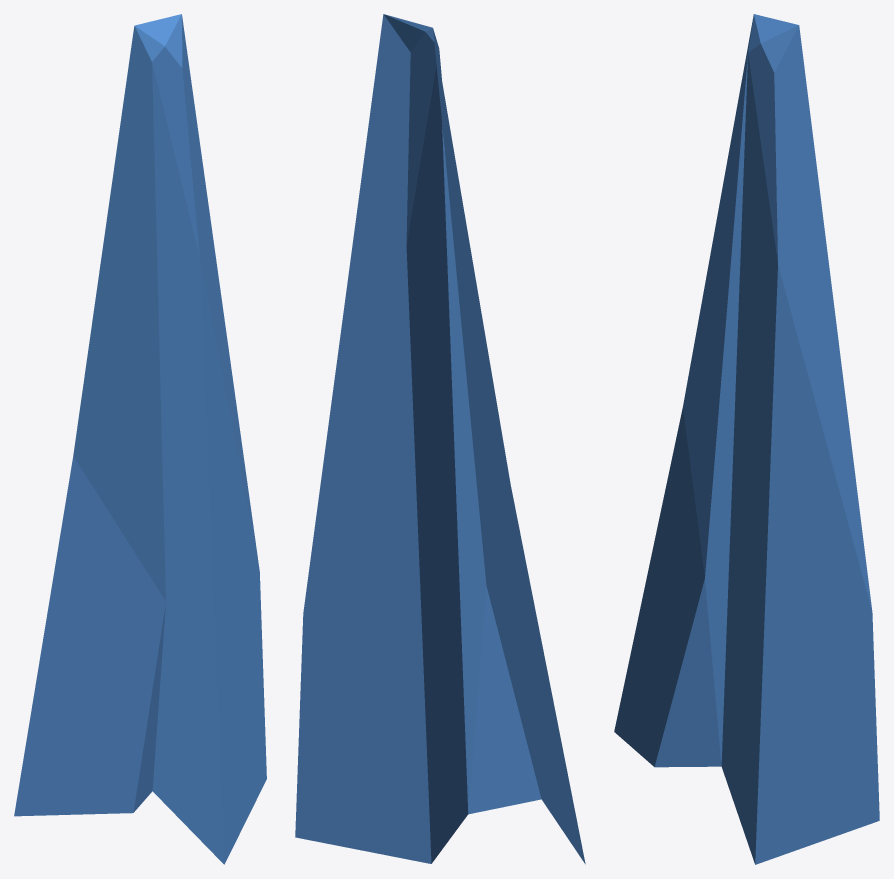
File: Towel_4.fbx
3 views of the same model, side by side, from view 1: azimuth 30°, elevation 25°; view 2: azimuth 150°, elevation 25°; view 3: azimuth 330°, elevation 25° (orthographic). The views are drawn at different scales.
Parts seen in each view (by area): view 1: Towel_4; view 2: Towel_4; view 3: Towel_4.
Part boxes in pixels (left/top/right/bottom): Towel_4: left=14, top=14, right=266, bottom=864; Towel_4: left=295, top=14, right=585, bottom=864; Towel_4: left=614, top=14, right=879, bottom=864.
Bounding box in the file's own units: 64.63 × 21.36 × 194.
